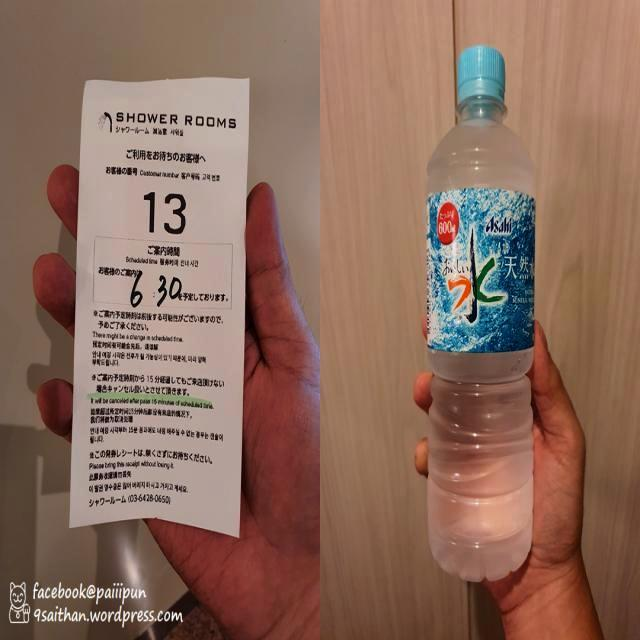bottle: (427, 45, 538, 583)
